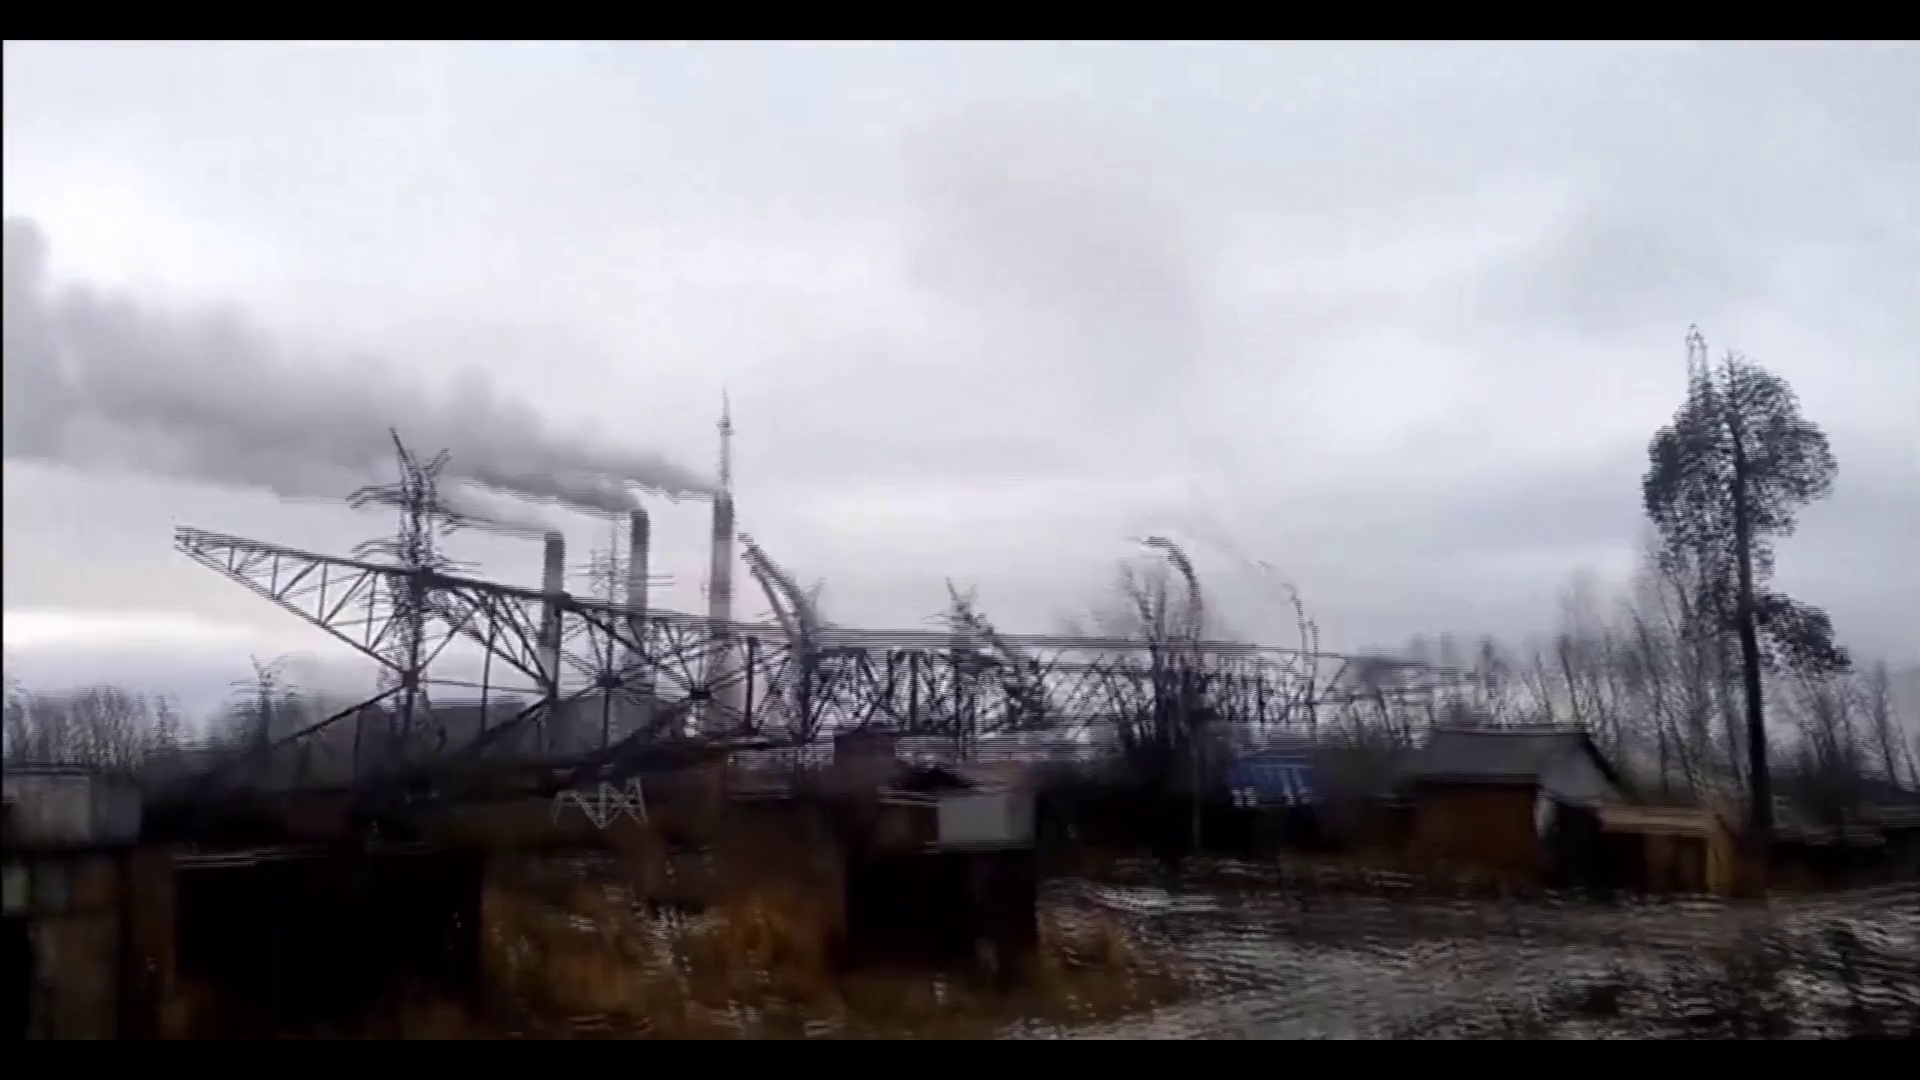tower_down: (193, 489, 1484, 803)
